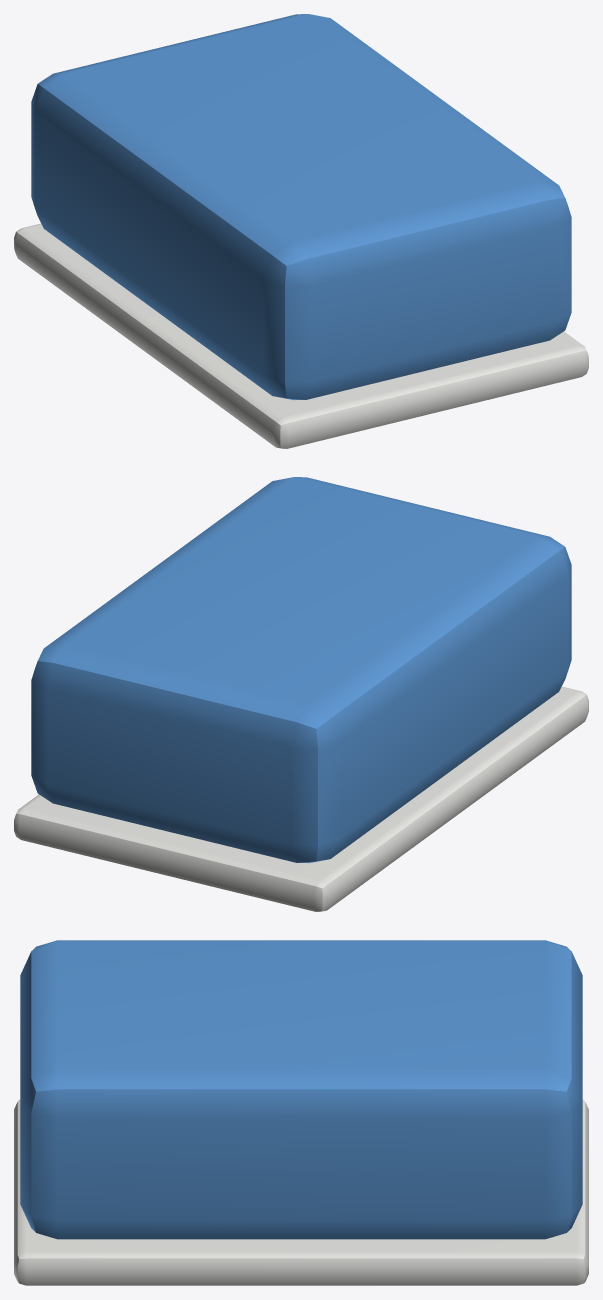
File: industrial.workshop.tool_applicator.glb
3 views of the same model, one above another, from view 1: azimuth 30°, elevation 25°; view 2: azimuth 150°, elevation 25°; view 3: azimuth 270°, elevation 25° (orthographic). The views are drawn at different scales.
Parts seen in each view (by area): view 1: main__paint_59c, main__paint_ddd; view 2: main__paint_59c, main__paint_ddd; view 3: main__paint_59c, main__paint_ddd.
Part boxes in pixels (bbox=[...]): main__paint_59c: bbox=[31, 14, 571, 400]; main__paint_ddd: bbox=[14, 223, 588, 448]; main__paint_59c: bbox=[31, 477, 571, 863]; main__paint_ddd: bbox=[14, 686, 588, 911]; main__paint_59c: bbox=[20, 940, 582, 1239]; main__paint_ddd: bbox=[14, 1100, 588, 1285].
Size of the model in its own units: 0.062 by 0.036 by 0.092.
